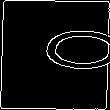O_W: (8, 33, 102, 77)
